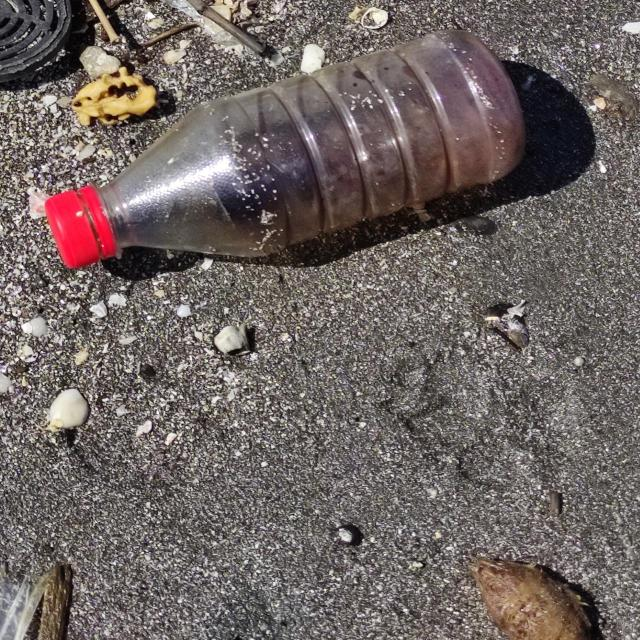plastic_waste: (45, 30, 527, 270)
